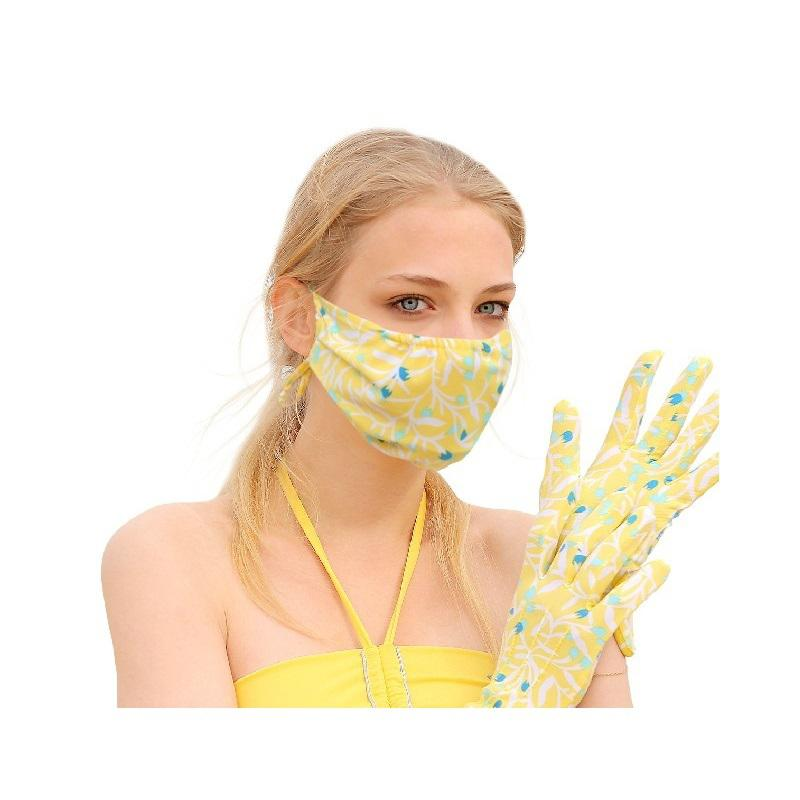OK: (326, 268, 520, 462)
